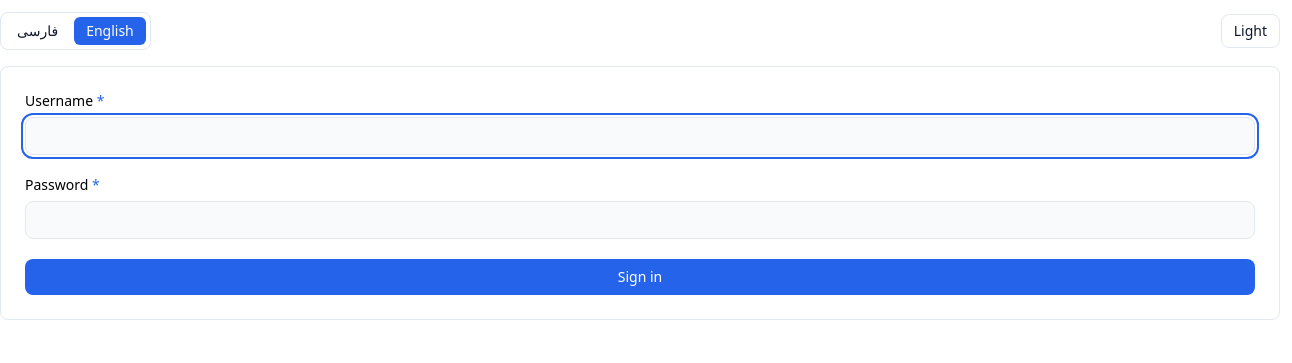
required-field validation › shows only the missing-field message when one field is empty
The image size is (1292, 363).
Step 1. Type "smoke-user" into the field labelled "Username *" → (640, 136), box [25, 117, 1255, 155]
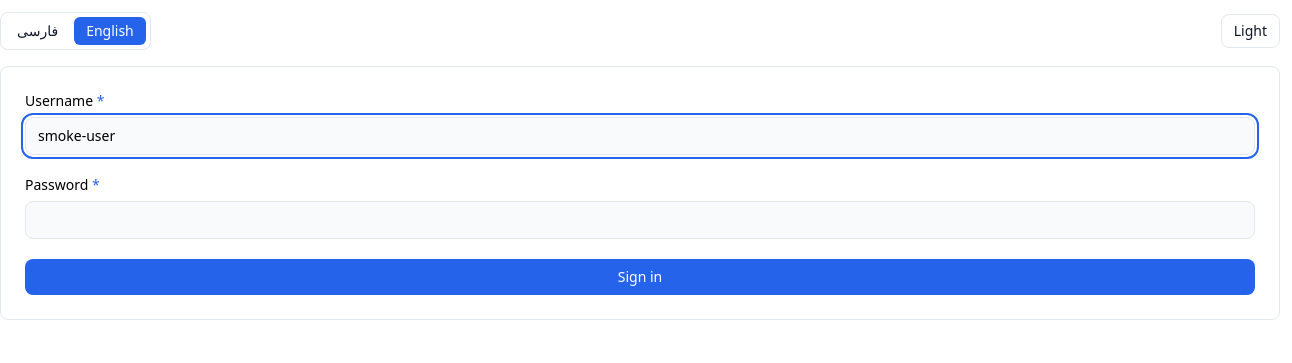
Step 2. Click the button "Sign in" → click(640, 277), box [25, 259, 1255, 295]
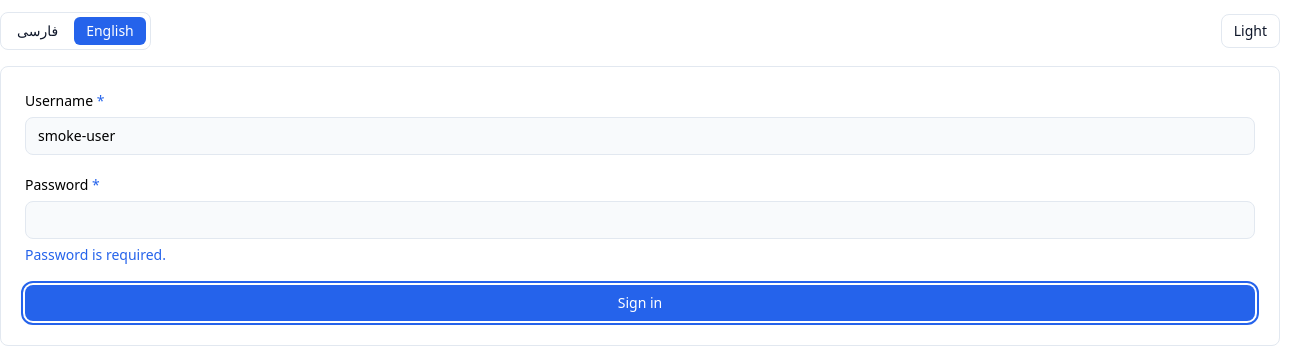
Expected: the text "Password is required." is shown, [25, 245, 166, 264]
